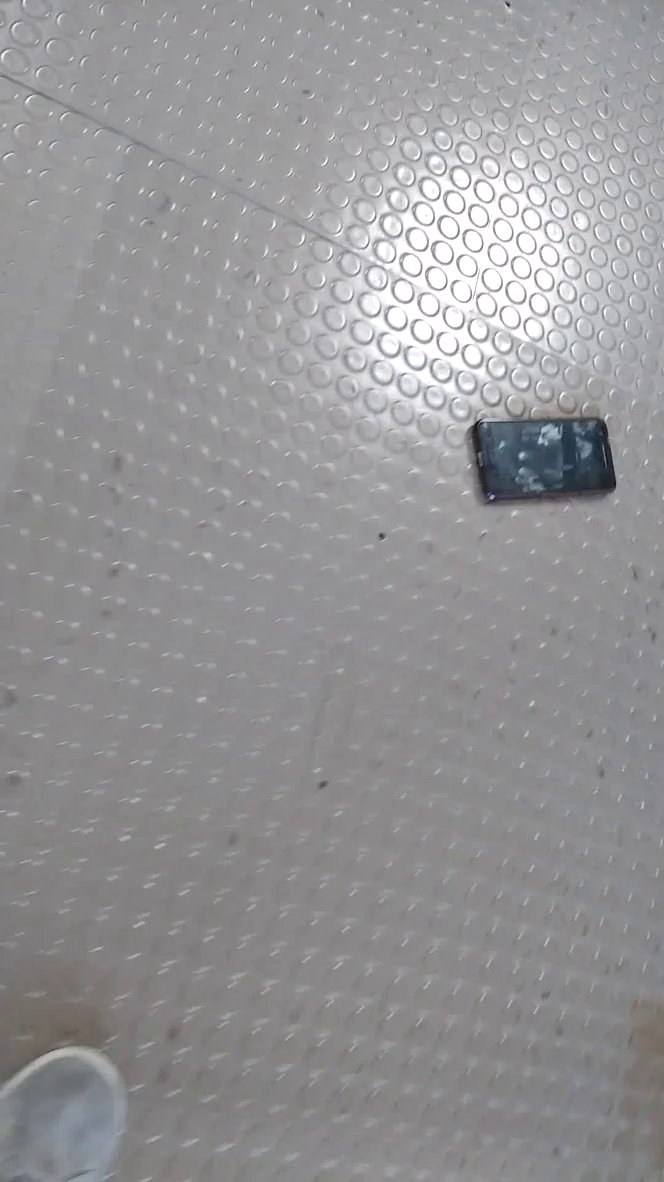phone: (464, 402, 626, 512)
